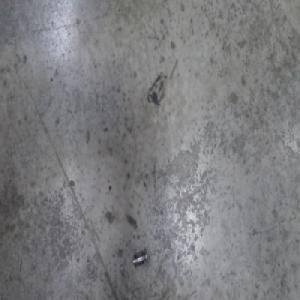Bolt: (133, 249, 149, 269)
